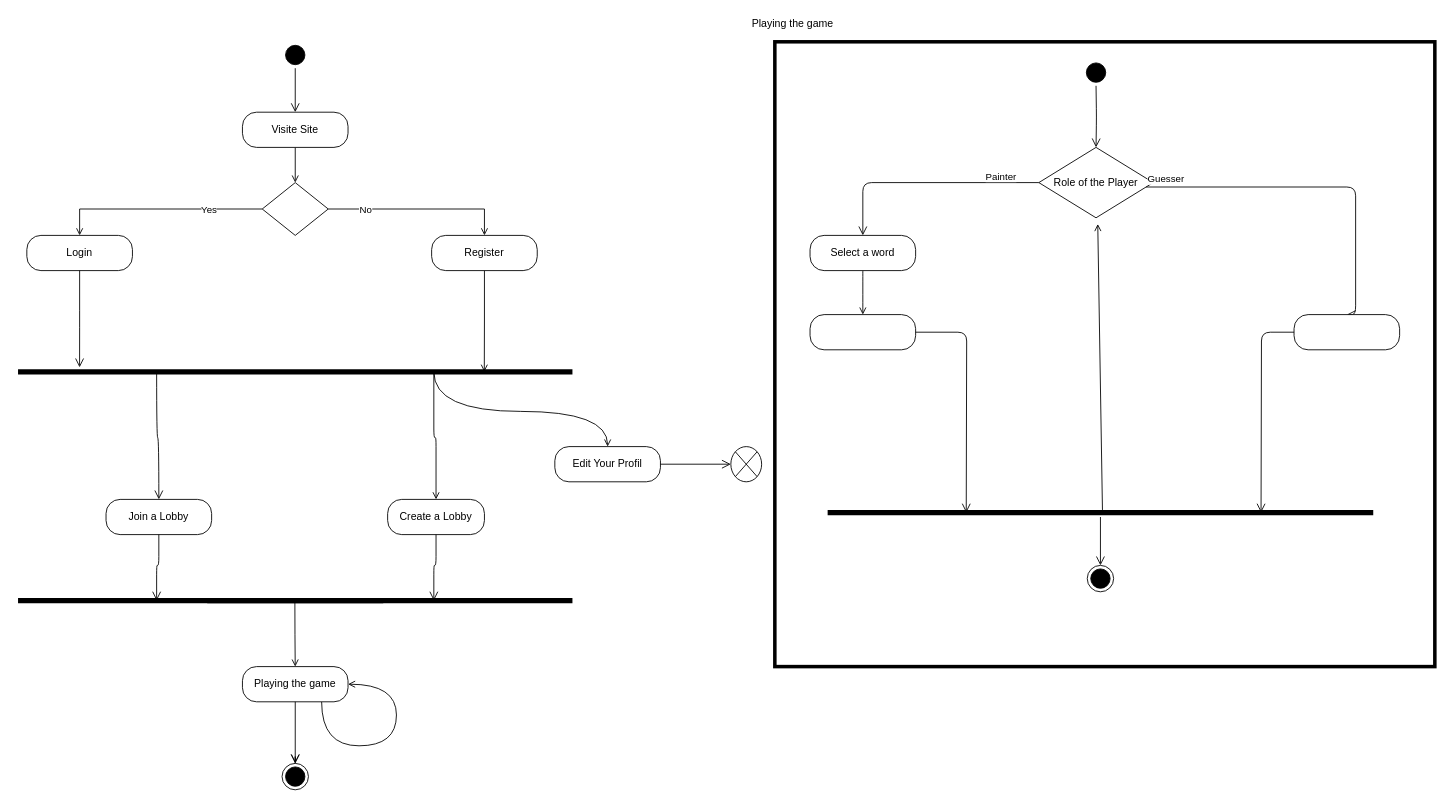
Image size: 1451x805. Some labels were removed from this diagram. Here are the shapes that lost their labels. From the top down, the centre of each, then its label:
At pixel 294 208: "Have an Accont".
At pixel 862 332: "Paint the word".
At pixel 1346 332: "Quessing the Word".
